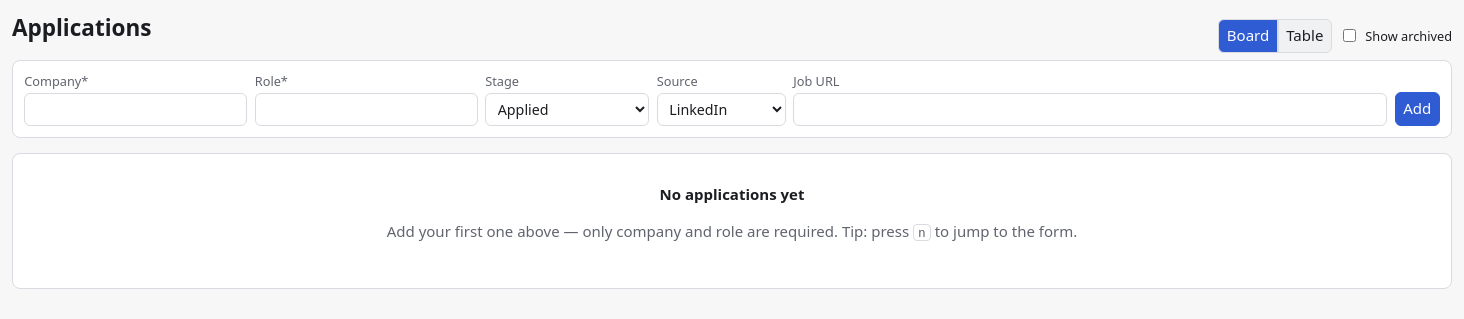
Test case: ApplicationsPage › adds an application and reloads the board
This screenshot has width=1464, height=319.
Expected: the text "No applications yet" is shown, x1=660 y1=184 x2=804 y2=204
Type "Acme Widgets" into the field labelled "Company*". click: (136,110)
box: x1=24 y1=93 x2=247 y2=126
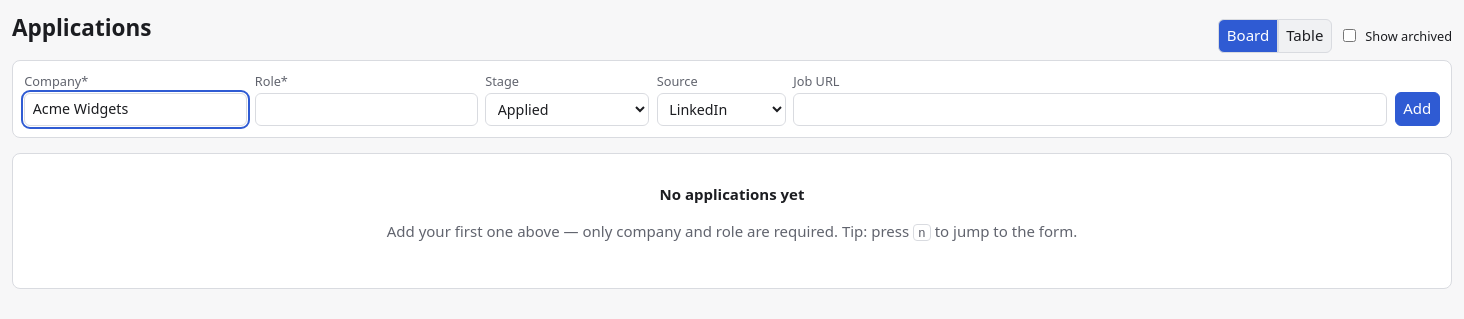
Type "Dev" into the field labelled "Role*". click: (366,110)
box: x1=255 y1=93 x2=478 y2=126
Then press Enter
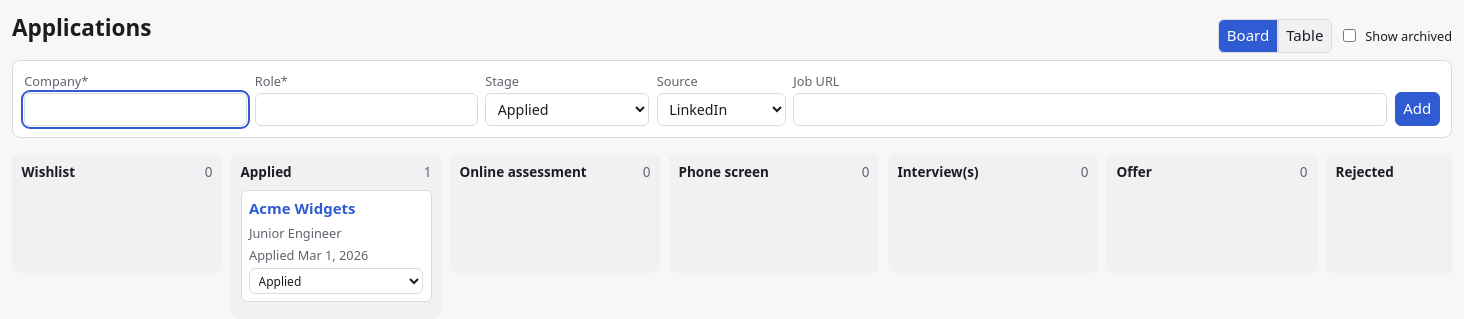
Expected: the button "Acme Widgets" is shown, x1=249 y1=198 x2=423 y2=220
